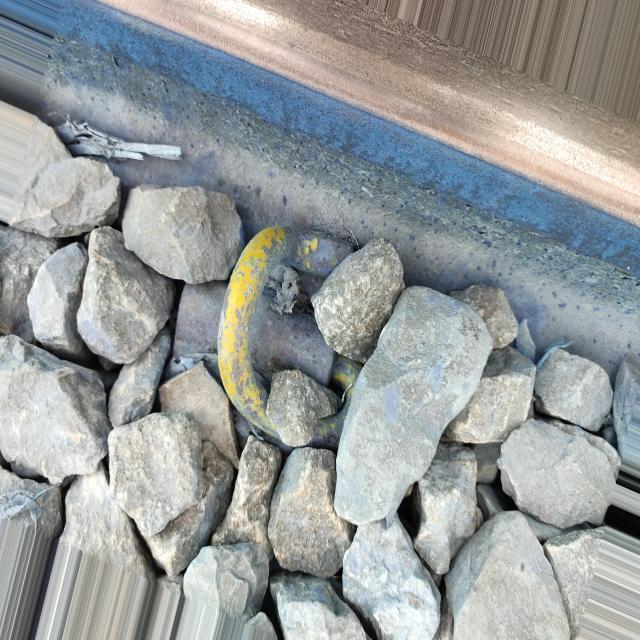Good Fasteners: (141, 177, 422, 466)
